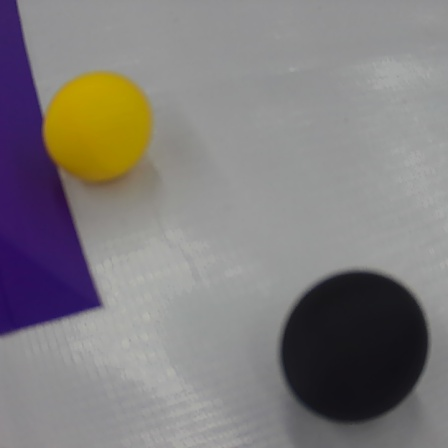black: (278, 265, 432, 422)
yellow: (42, 70, 154, 186)
